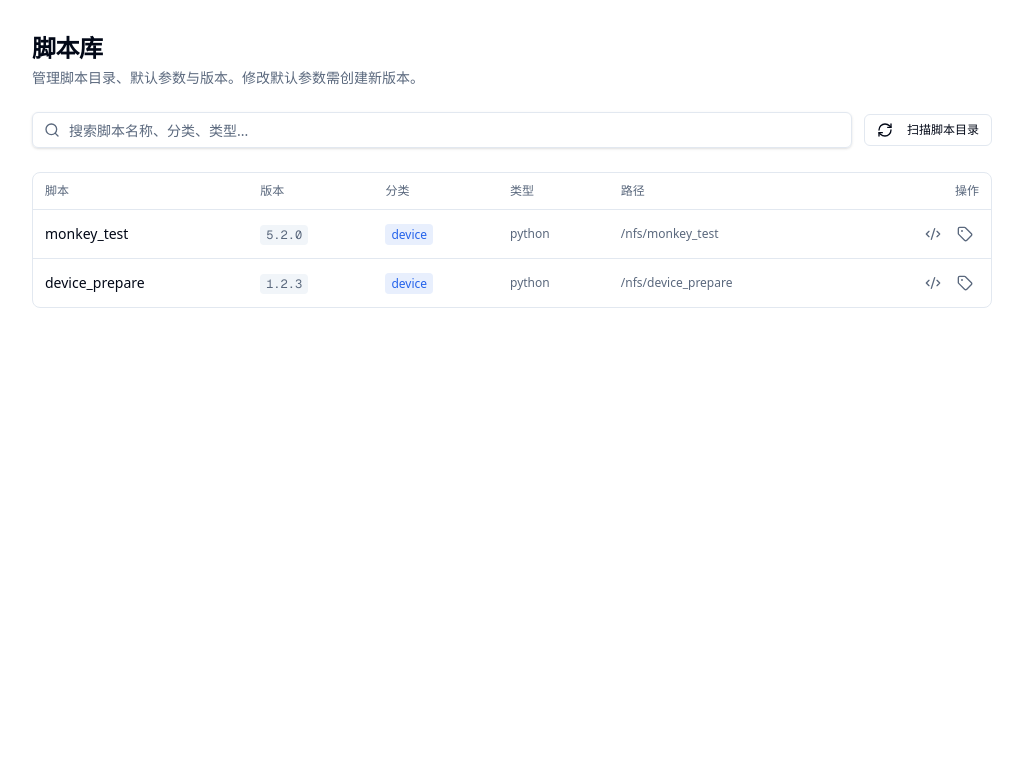
Test: ScriptManagementPage 用量空态（#3496） › 用量查询失败显示加载失败与重试，不显示「近 30 天无 Plan 使用记录」
The width and height of the screenshot is (1024, 768).
Expected: the text "monkey_test" is shown, [45,224,128,242]
Click the button named "参数详情" in the row of "5.2.0".
click(933, 234)  # box [919,220,947,248]
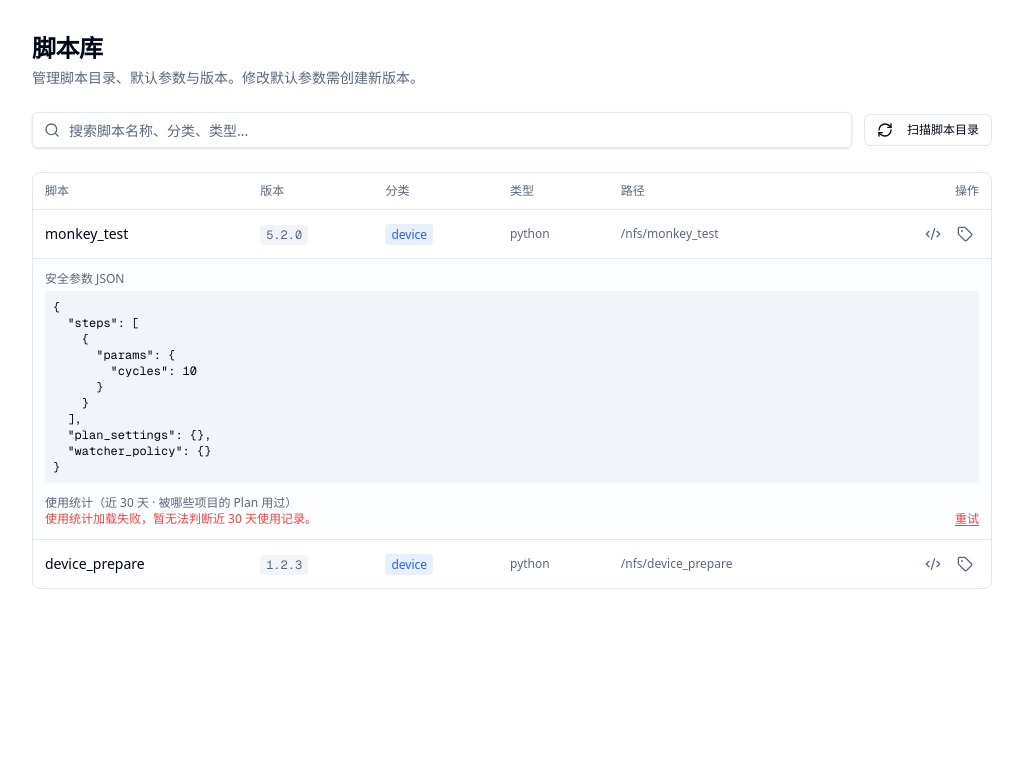
Expected: the text "近 30 天无 Plan 使用记录" is not shown
Now the text "使用统计加载失败，暂无法判断近 30 天使用记录。" is shown, box [45,510,317,526]
Click the button "重试".
click(967, 518)  # box [955,510,979,526]
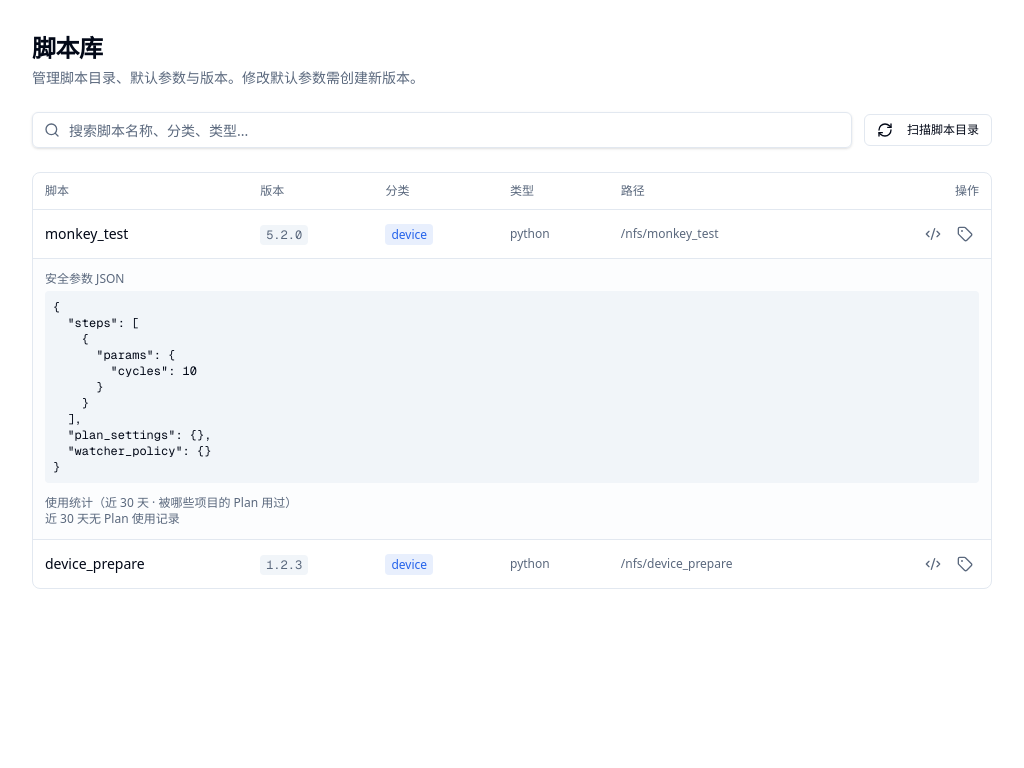
Now the text "近 30 天无 Plan 使用记录" is shown, box [45,510,180,526]
